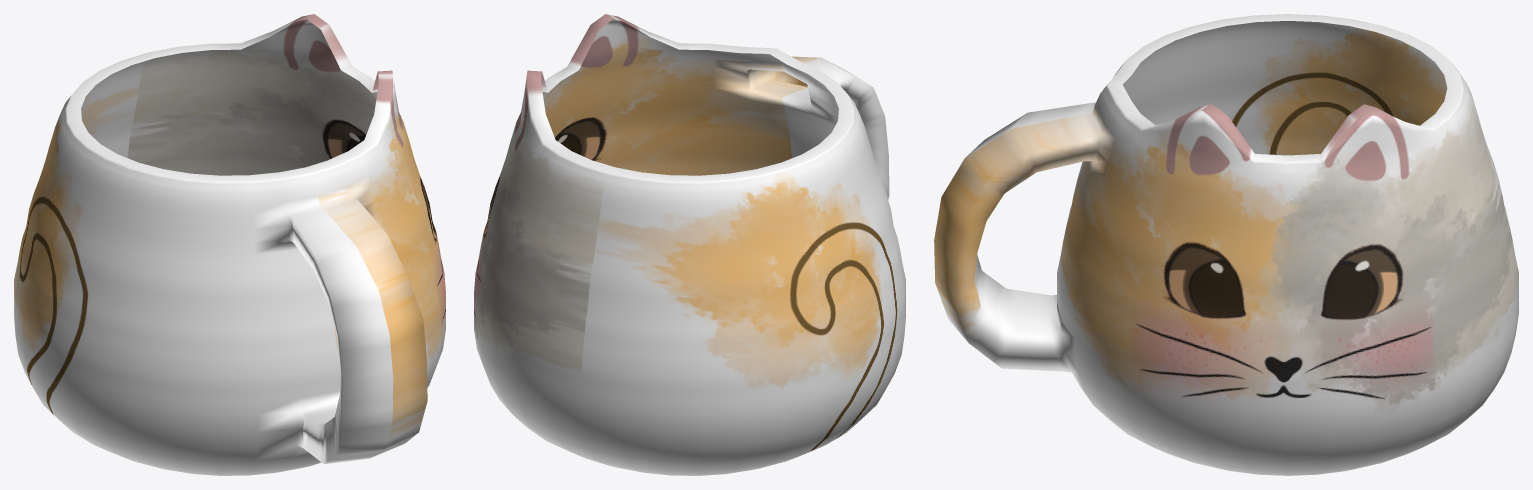
File: calico cat.fbx
The picture shows the model from 3 angles, left to right: view 1: azimuth 30°, elevation 25°; view 2: azimuth 150°, elevation 25°; view 3: azimuth 270°, elevation 25°; orthographic projection. The views are drawn at different scales.
Parts seen in each view (by area): view 1: Black cat; view 2: Black cat; view 3: Black cat.
Part boxes in pixels (box(x1,y1,x2,y2)): Black cat: box(14, 14, 445, 475); Black cat: box(474, 14, 905, 475); Black cat: box(934, 14, 1518, 475).
Bounding box in the file's own units: 19.08 × 17.55 × 24.16.
